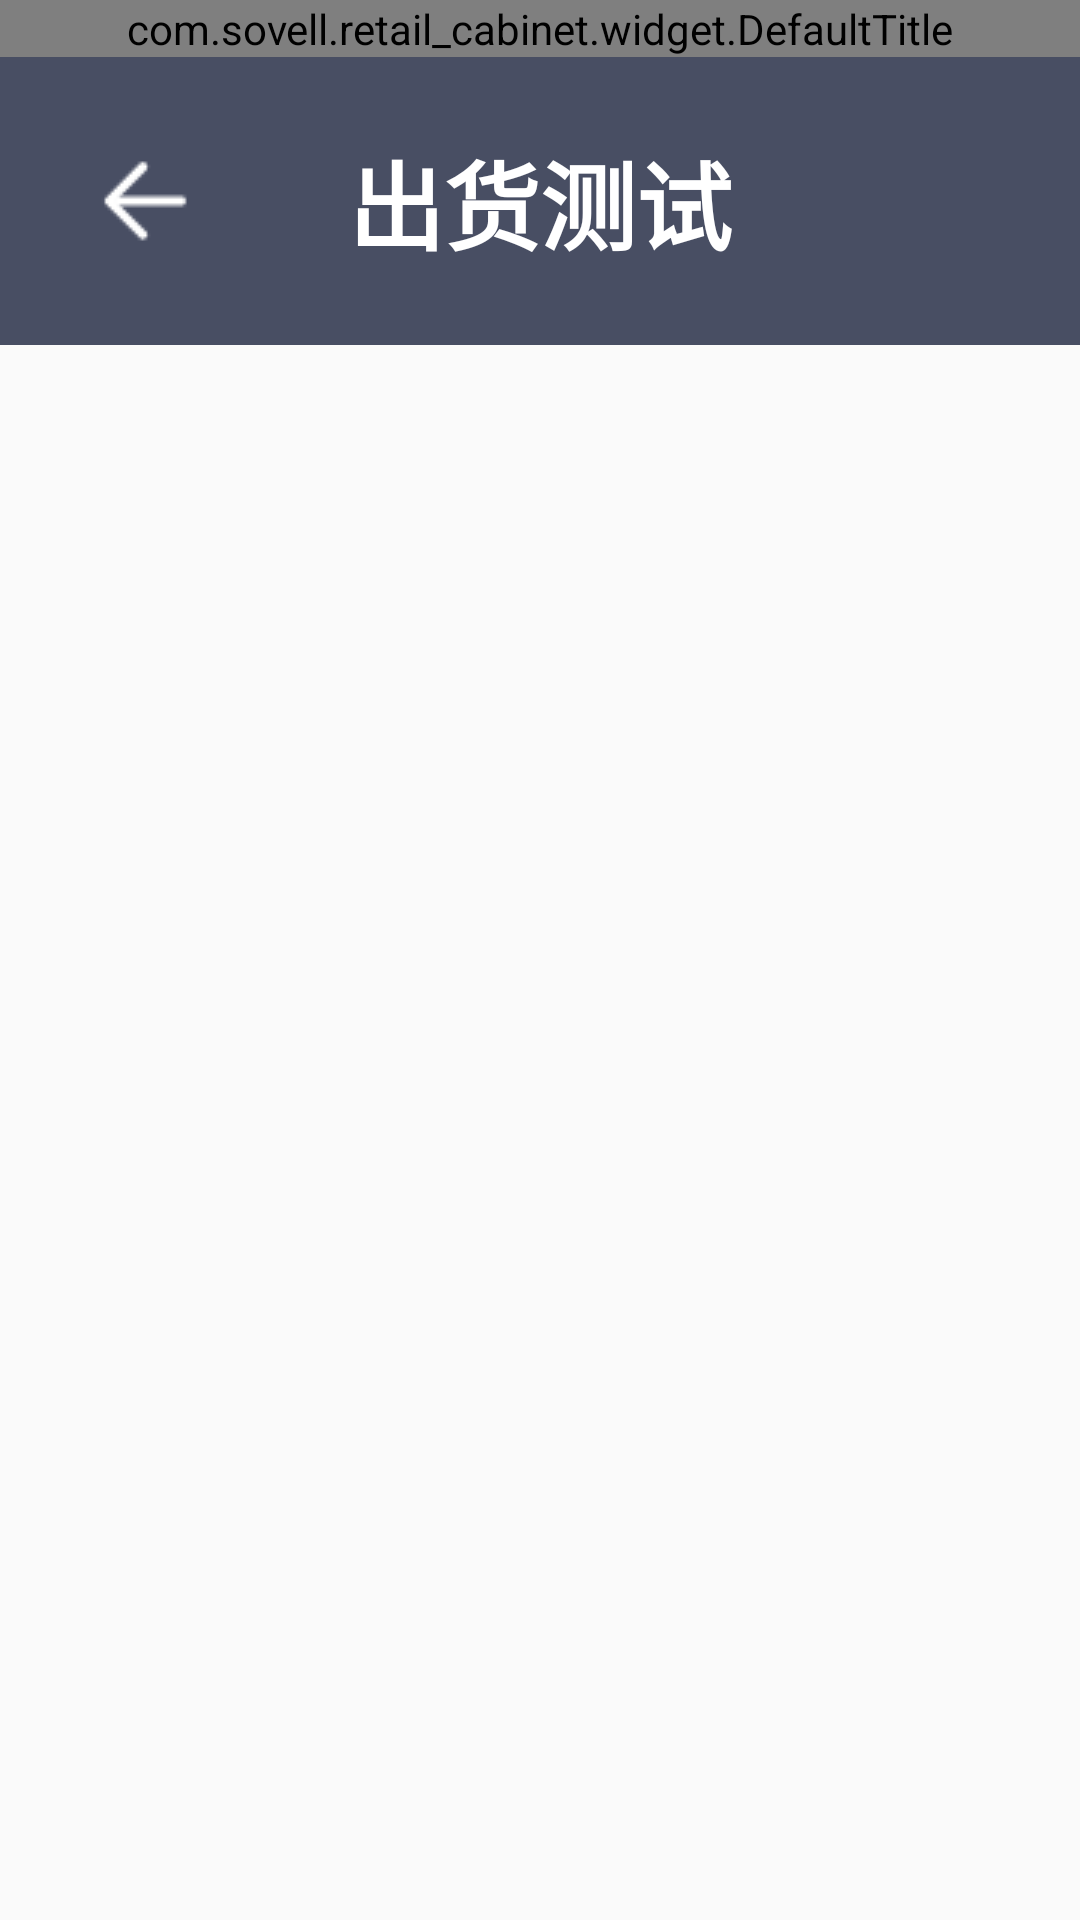

Named icons in this screenshot (1080px×1920px) and their centers, (x=x, y=y):
back: (x=145, y=201)
